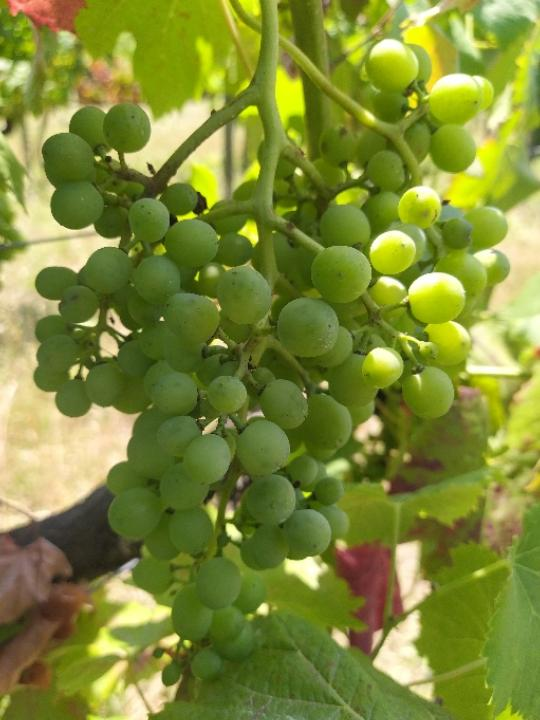grape: (31, 37, 511, 705)
